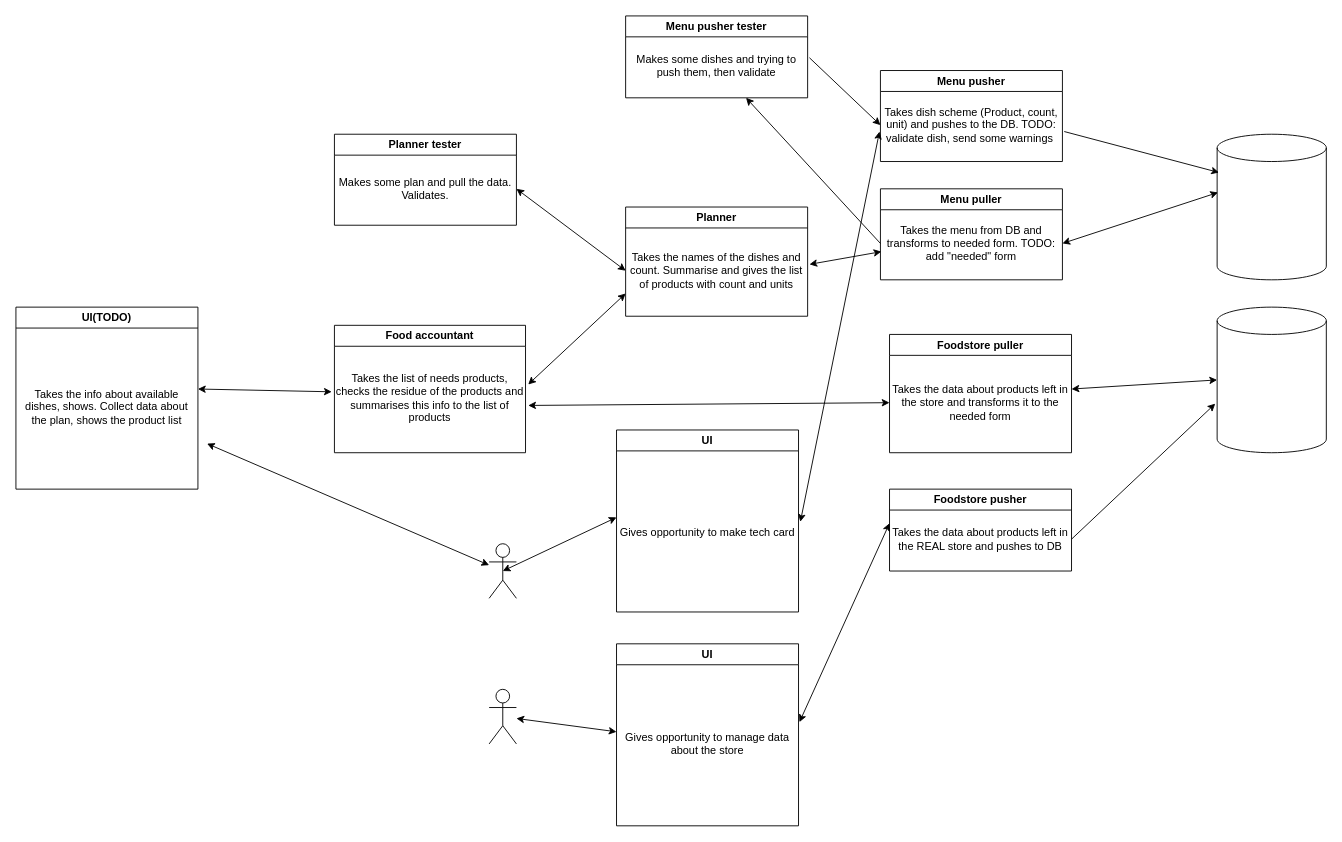
This 1342x842 diagram has some shape labels left out. The centre of each missing label's shape, as x and y in pixels:
Chef: (x=502, y=570)
DB of menu's: (x=1271, y=206)
DB of store: (x=1271, y=379)
Store manager: (x=502, y=716)
